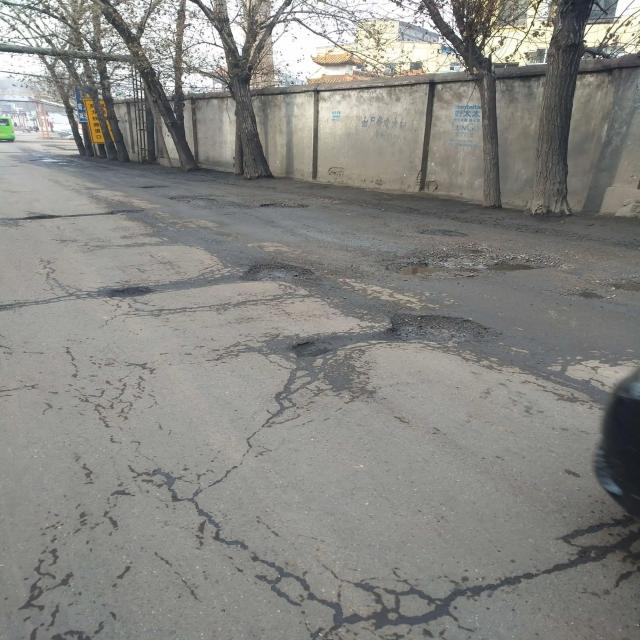Pothole: (284, 313, 498, 356), (388, 256, 568, 280), (176, 194, 322, 213), (235, 256, 316, 285), (569, 274, 640, 306), (415, 226, 469, 240), (100, 286, 153, 296)
